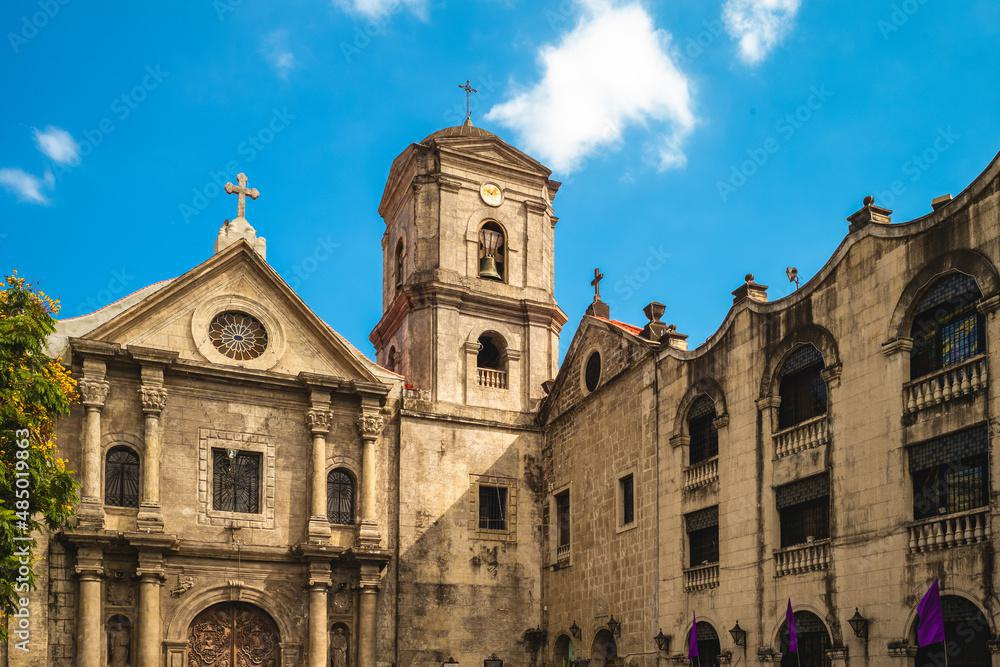san_agustin_church_intramuros_manila: (56, 67, 569, 667)
